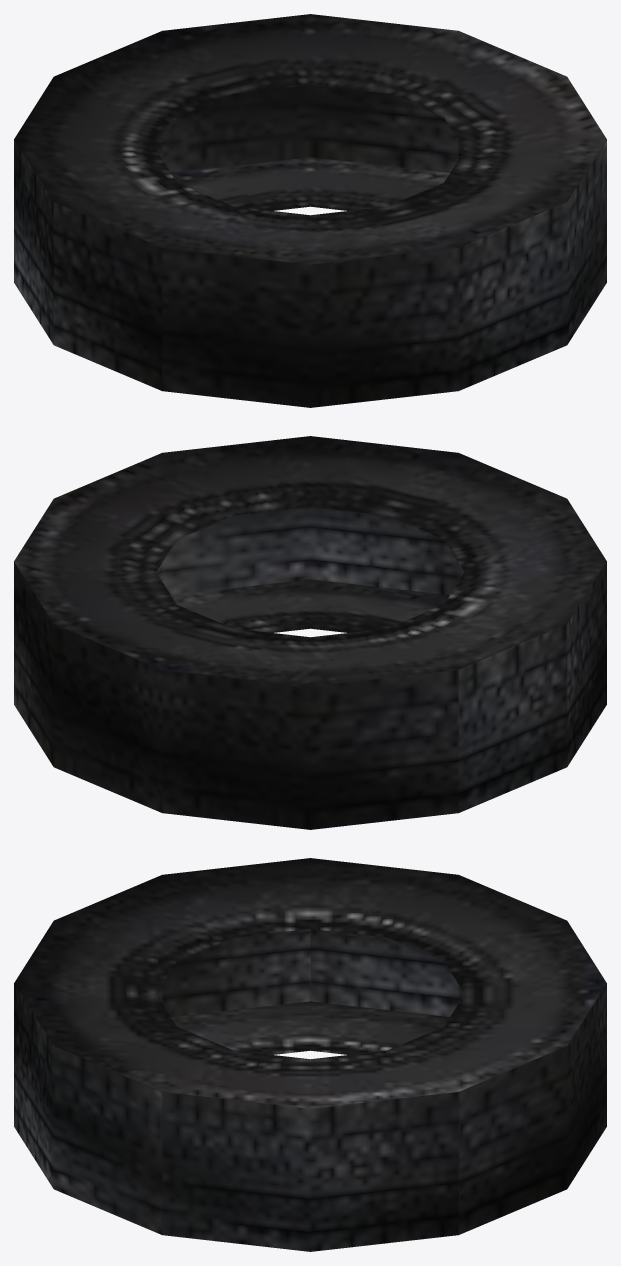
The model's file is psx_industrial_pack_tire.glb.
3 views of the same model, one above another, from view 1: azimuth 30°, elevation 25°; view 2: azimuth 150°, elevation 25°; view 3: azimuth 270°, elevation 25° (orthographic).
Parts seen in each view (by area): view 1: Tire; view 2: Tire; view 3: Tire.
Boxes of the visible parts, bbox=[...] form: Tire: bbox=[14, 14, 606, 407]; Tire: bbox=[14, 436, 606, 829]; Tire: bbox=[14, 858, 606, 1251].
Bounding box in the file's own units: 0.75 × 0.2 × 0.75.
Materials: 1 (1 with a texture image).
